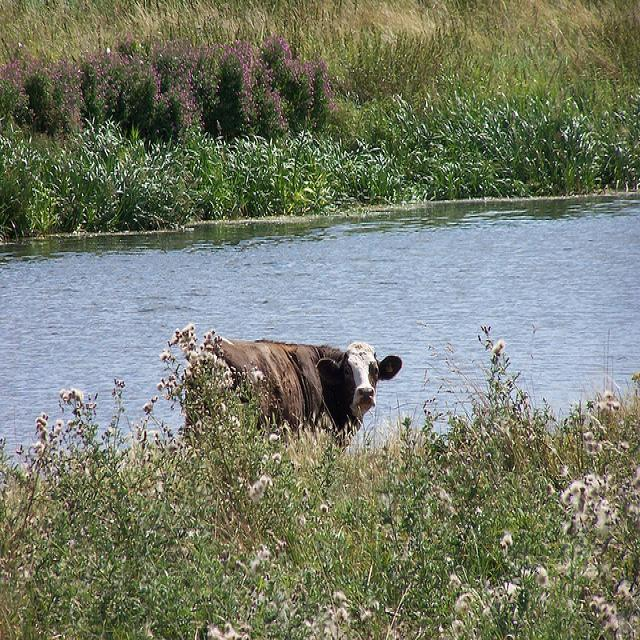cow: (210, 337, 399, 452)
